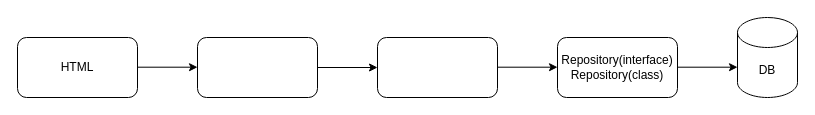
Some shapes in this 815 by 115 pixel diagram are drawn without their labels. Here are the shapes that lost their labels. From the top down, the centre of each, then its label:
[257,67]: Controller
[437,67]: Service (interface) Service(class)
